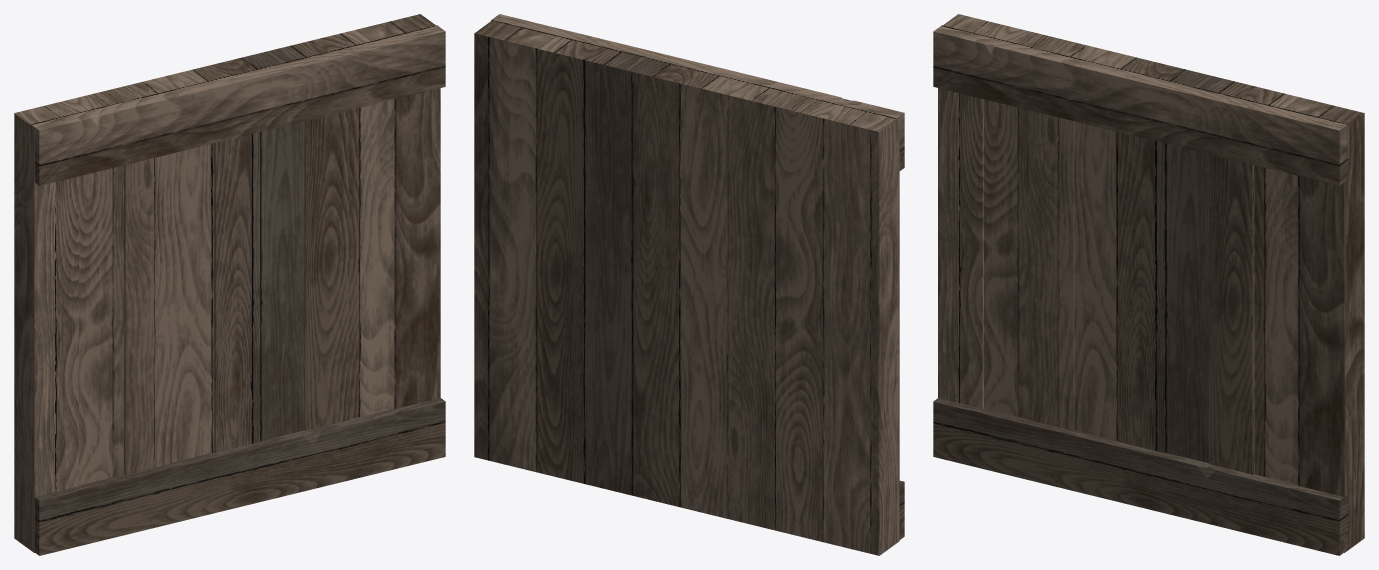
Rendered from SM_Wall.fbx.
3 renders of one model, left to right at view 1: azimuth 30°, elevation 25°; view 2: azimuth 150°, elevation 25°; view 3: azimuth 330°, elevation 25°, orthographic.
Visible parts, largest first — view 1: SM_Wall; view 2: SM_Wall; view 3: SM_Wall.
Part boxes in pixels (x1=…): SM_Wall: x1=14, y1=14, x2=445, y2=555; SM_Wall: x1=474, y1=14, x2=904, y2=555; SM_Wall: x1=933, y1=14, x2=1364, y2=555.
Size of the model in its own units: 300 by 301 by 32.26.
